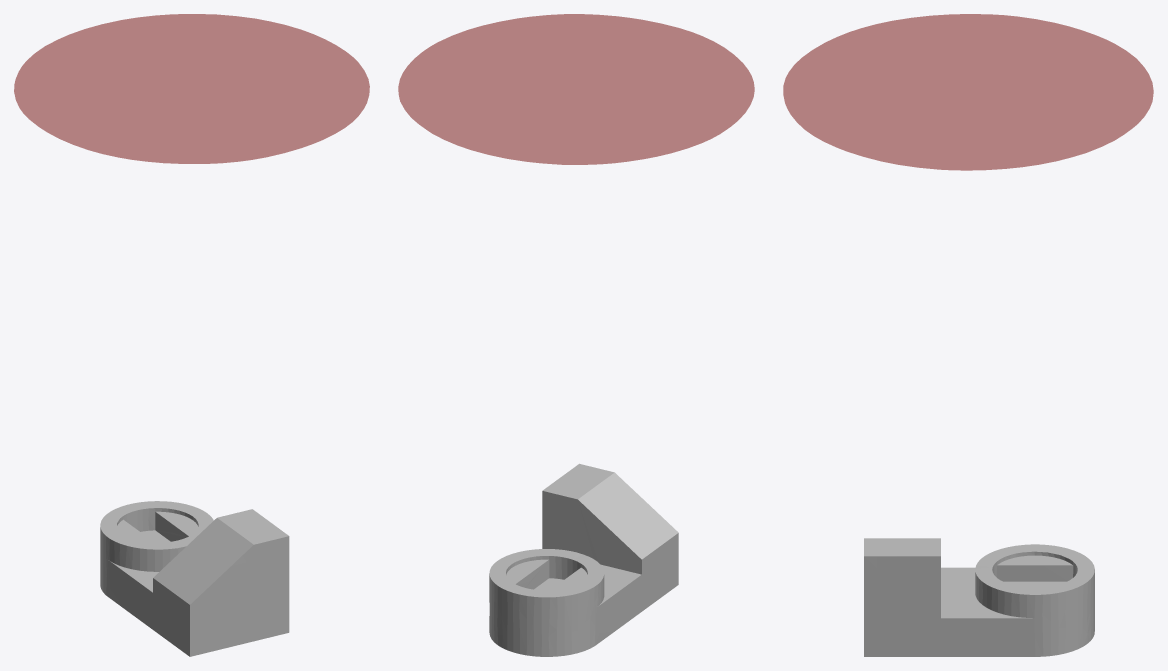
File: init.glb
3 views of the same model, side by side, from view 1: azimuth 30°, elevation 25°; view 2: azimuth 150°, elevation 25°; view 3: azimuth 270°, elevation 25° (orthographic). The views are drawn at different scales.
Parts seen in each view (by area): view 1: world, object.obj; view 2: world, object.obj; view 3: world, object.obj.
Part boxes in pixels (x1,y1,x2,y2): world: (14, 14, 369, 163); object.obj: (100, 501, 289, 656); world: (398, 14, 754, 164); object.obj: (489, 463, 678, 656); world: (783, 14, 1153, 170); object.obj: (864, 538, 1094, 656).
Size of the model in its own units: 0.6208 by 0.9995 by 0.6208.
